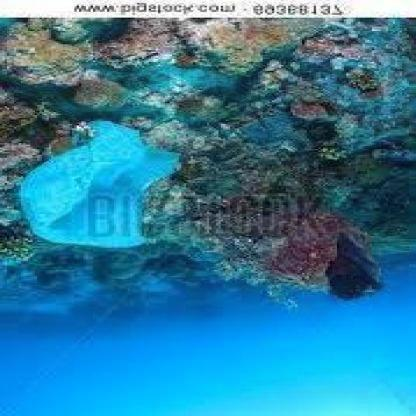pbag: (16, 119, 184, 250)
